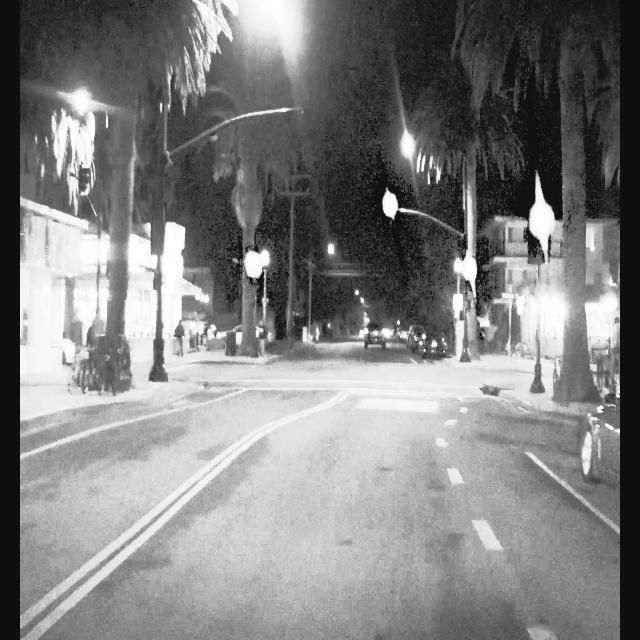Light: (532, 205, 548, 264), (247, 252, 259, 284), (386, 194, 396, 228), (466, 260, 476, 281)
Tree: (547, 1, 603, 409)
